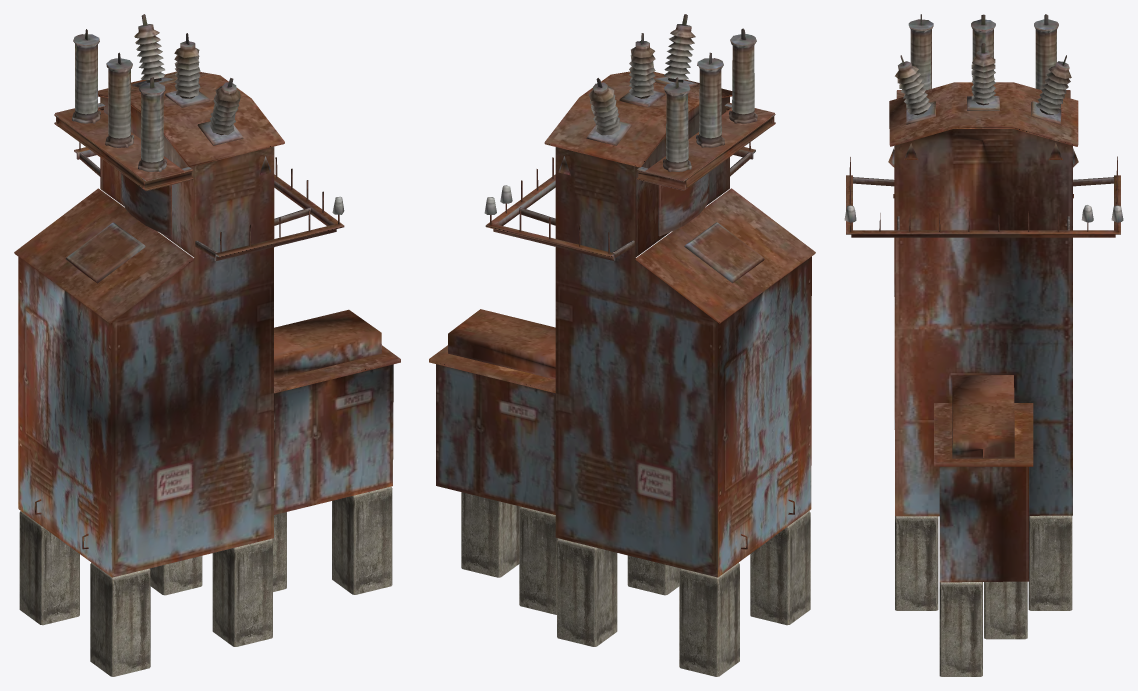
File: substation_a.glb
The picture shows the model from 3 angles, left to right: view 1: azimuth 30°, elevation 25°; view 2: azimuth 150°, elevation 25°; view 3: azimuth 270°, elevation 25°; orthographic projection. The views are drawn at different scales.
Visible parts, largest first — view 1: substation_a_LOD0; view 2: substation_a_LOD0; view 3: substation_a_LOD0.
Part boxes in pixels (box(x1,y1,x2,y2)): substation_a_LOD0: box(14, 14, 400, 676); substation_a_LOD0: box(429, 14, 815, 676); substation_a_LOD0: box(844, 14, 1123, 676).
Size of the model in its own units: 1.94 by 3.4 by 1.56.
Materials: 2 (2 with a texture image).
